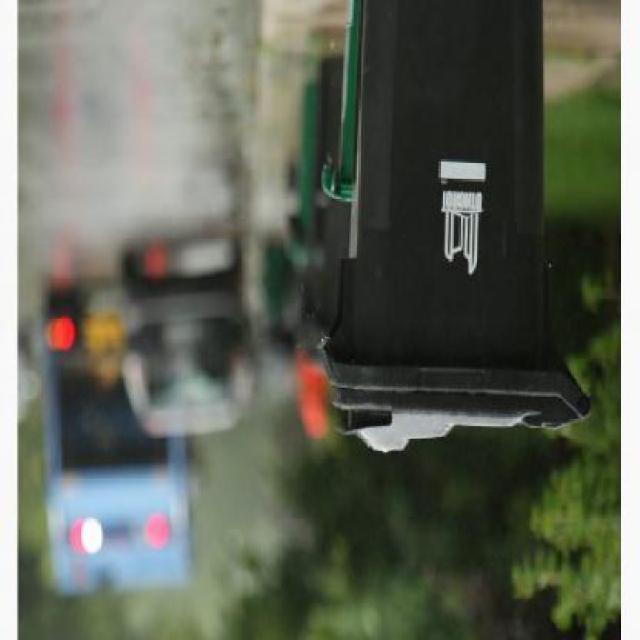garbage container: (316, 3, 598, 466)
